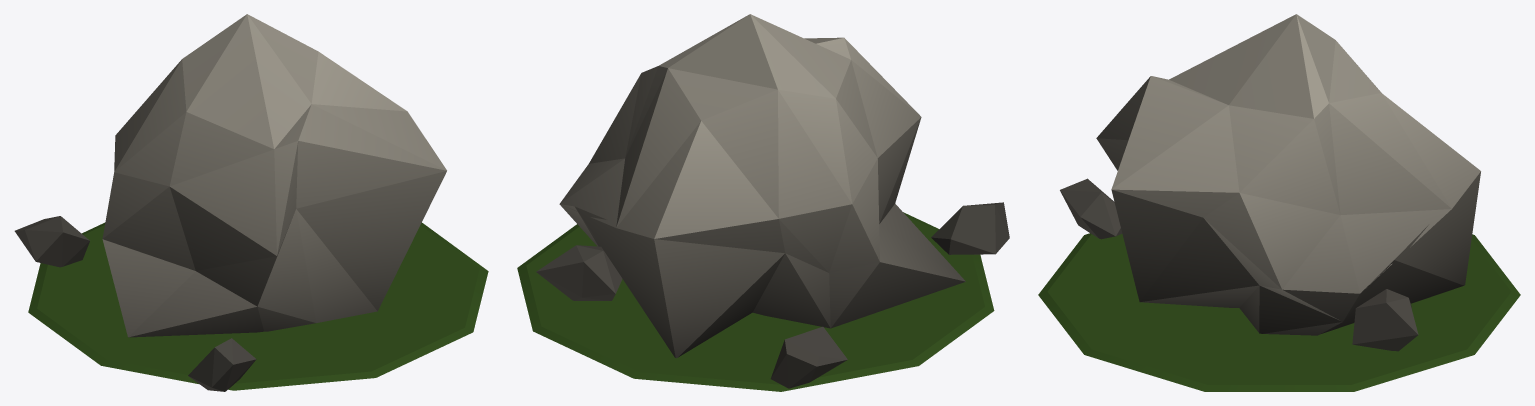
The model's file is railway-boulder.glb.
3 views of the same model, side by side, from view 1: azimuth 30°, elevation 25°; view 2: azimuth 150°, elevation 25°; view 3: azimuth 270°, elevation 25° (orthographic). The views are drawn at different scales.
Visible parts, largest first — view 1: railway_boulder; view 2: railway_boulder; view 3: railway_boulder.
Boxes of the visible parts, x1,y1,x2,y2 form: railway_boulder: [14, 14, 488, 391]; railway_boulder: [517, 14, 1009, 391]; railway_boulder: [1038, 14, 1520, 391].
Bounding box in the file's own units: 1.54 × 1.04 × 1.62.
